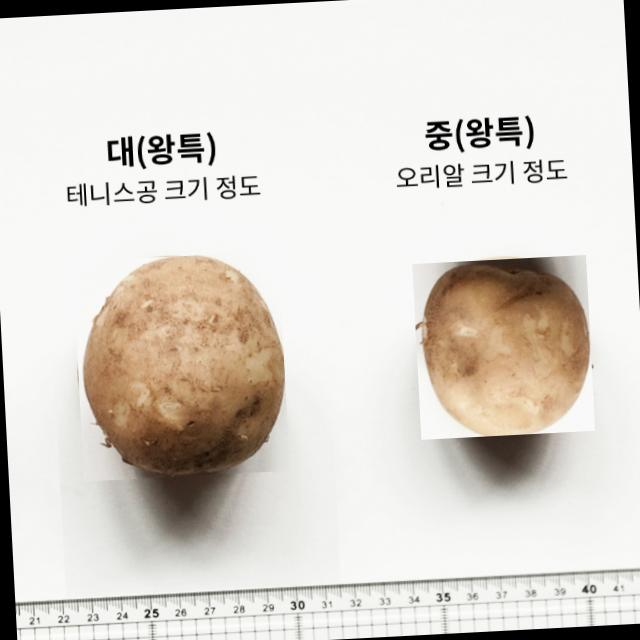Potato: (72, 250, 288, 480), (411, 253, 594, 440)
